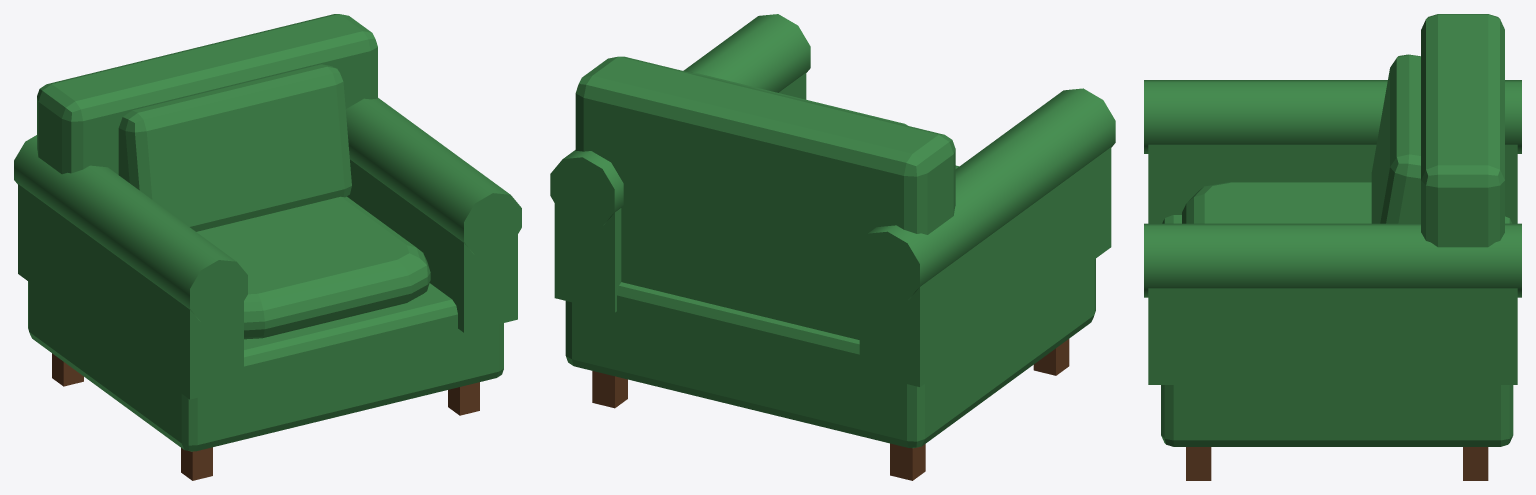
The model's file is armchair.glb.
The picture shows the model from 3 angles, left to right: view 1: azimuth 30°, elevation 25°; view 2: azimuth 150°, elevation 25°; view 3: azimuth 270°, elevation 25°; orthographic projection. The views are drawn at different scales.
Parts seen in each view (by area): view 1: Armchair arms, Armchair base, Armchair back cushion, Armchair back, Armchair cushion, Armchair legs; view 2: Armchair back, Armchair arms, Armchair base, Armchair legs; view 3: Armchair arms, Armchair base, Armchair back, Armchair cushion, Armchair back cushion, Armchair legs.
Part boxes in pixels (<box>): Armchair arms: <box>14,98,521,399</box>; Armchair base: <box>28,281,503,451</box>; Armchair back cushion: <box>118,64,351,231</box>; Armchair back: <box>37,14,377,174</box>; Armchair cushion: <box>196,196,430,339</box>; Armchair legs: <box>52,353,479,480</box>; Armchair back: <box>575,56,955,339</box>; Armchair arms: <box>550,14,1115,386</box>; Armchair base: <box>565,258,1095,448</box>; Armchair legs: <box>592,339,1069,480</box>; Armchair arms: <box>1144,80,1521,384</box>; Armchair base: <box>1161,215,1513,446</box>; Armchair back: <box>1421,14,1504,247</box>; Armchair cushion: <box>1182,182,1371,223</box>; Armchair back cushion: <box>1371,54,1420,223</box>; Armchair legs: <box>1186,447,1488,480</box>.
Bounding box in the file's own units: 0.9812 × 0.83 × 0.9.
